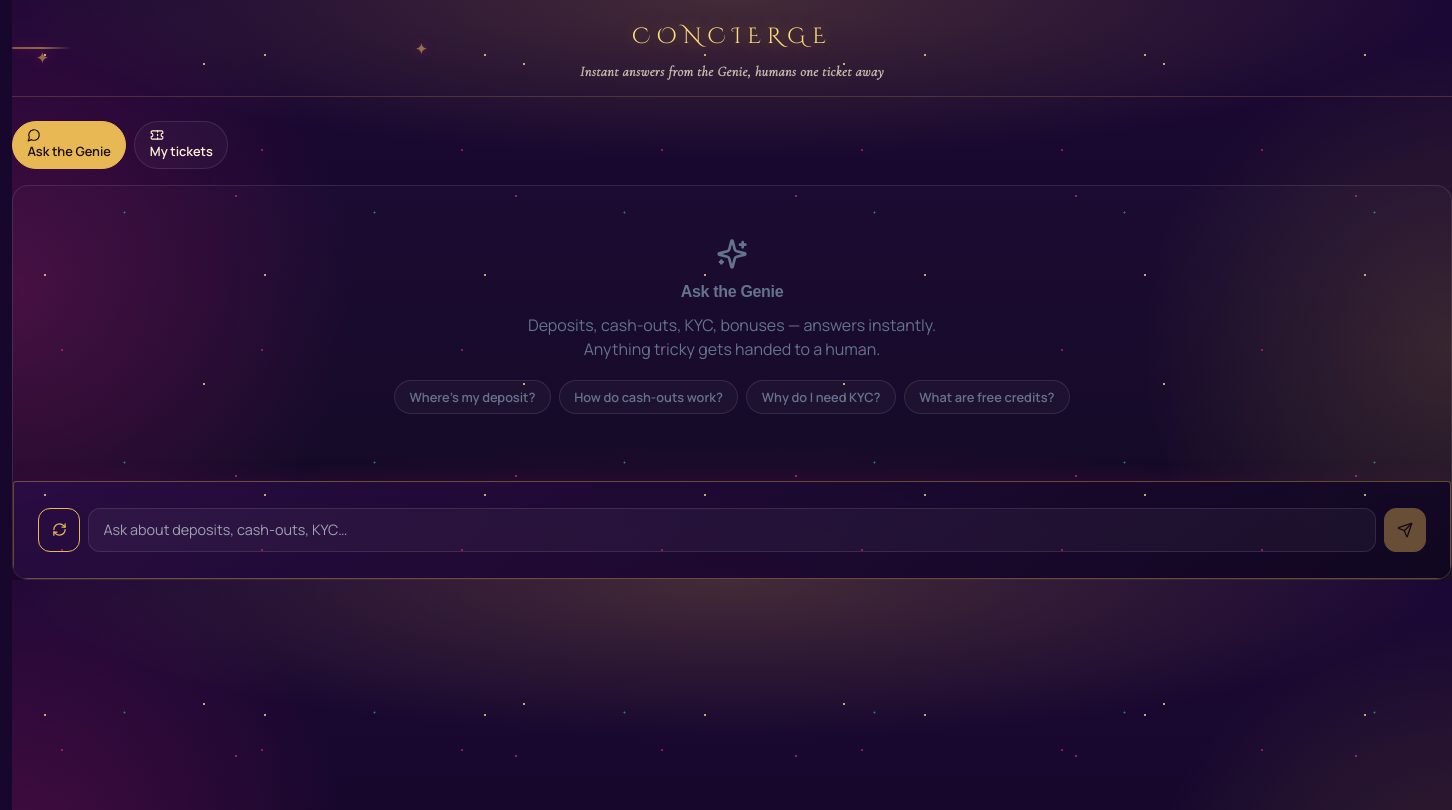
Test: Concierge Genie cycle › shows the offline fallback when the Genie backend is down
The width and height of the screenshot is (1452, 810).
Click the button with test id "genie-quick" showing "How do cash-outs work?". click: (649, 397)
box: [559, 380, 738, 414]
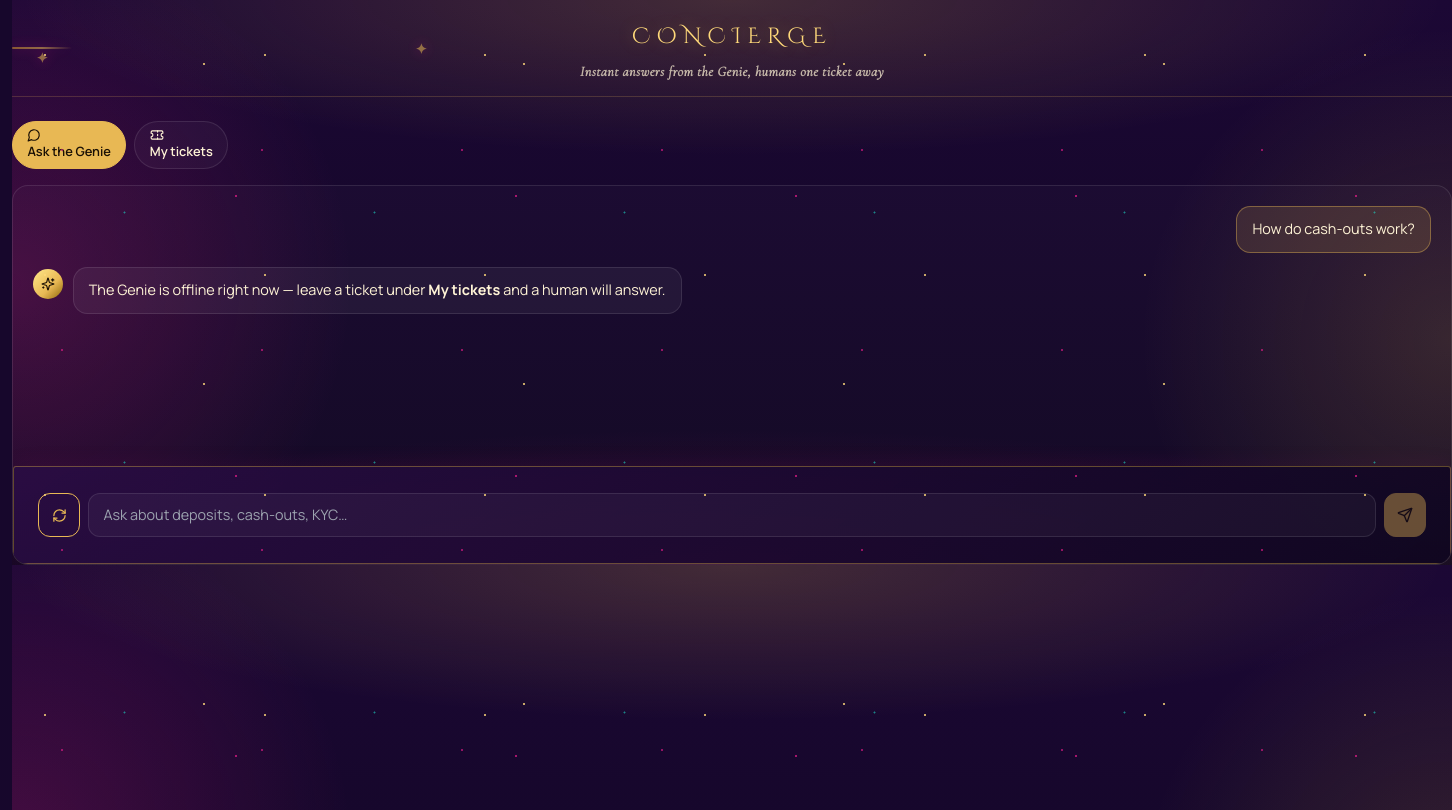
Result: the text "Genie is offline" is shown at [89, 280, 428, 299]
